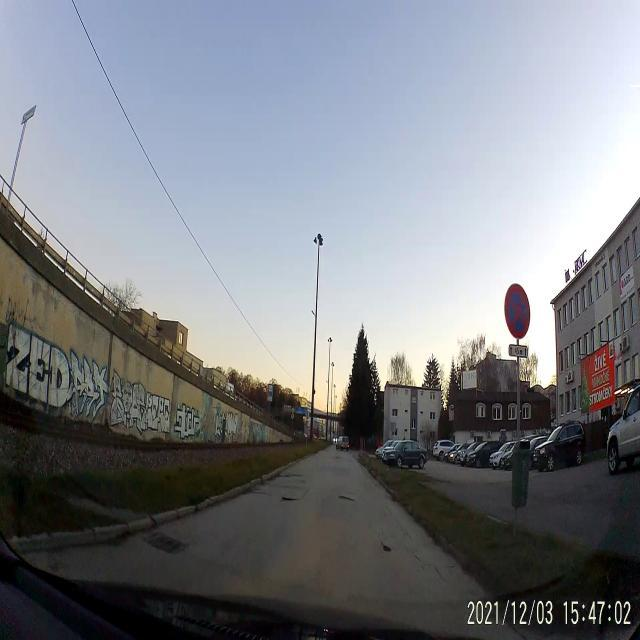Manhole: (142, 527, 187, 557)
Pothole: (272, 468, 302, 484), (337, 489, 357, 506), (282, 494, 298, 510), (381, 545, 394, 560)
